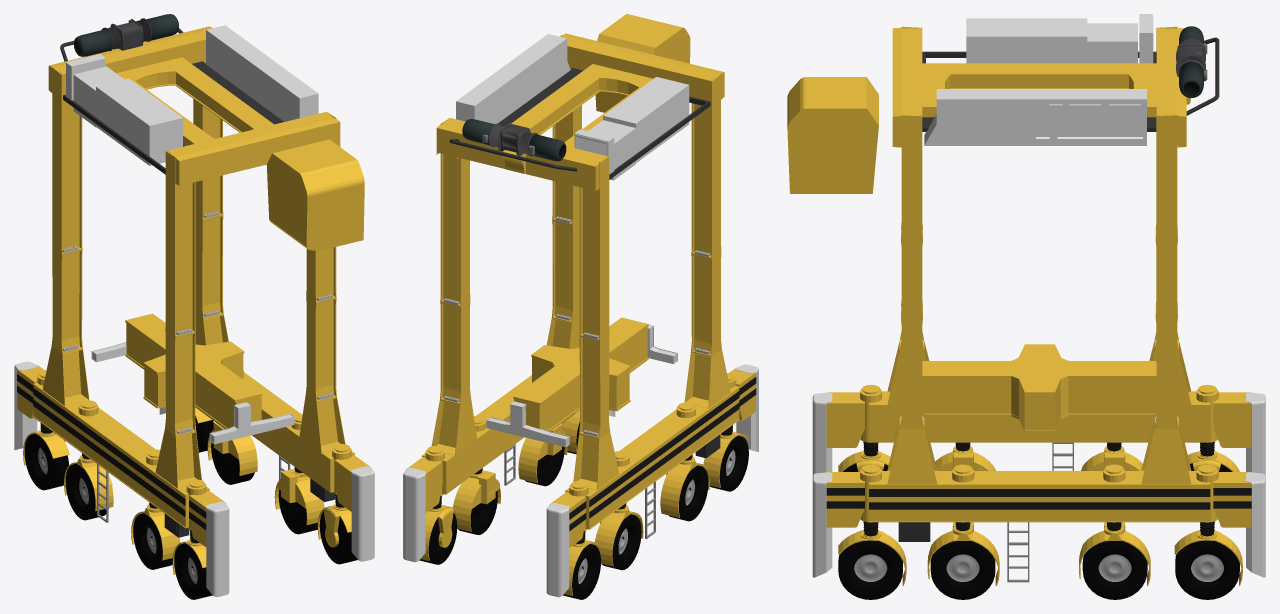
The model's file is straddle carrier_06.fbx.
3 views of the same model, side by side, from view 1: azimuth 30°, elevation 25°; view 2: azimuth 150°, elevation 25°; view 3: azimuth 270°, elevation 25° (orthographic). The views are drawn at different scales.
Parts seen in each view (by area): view 1: Cube.012, Cube.018, Cube.076, Cube.069, Cube.053, Cube.082, Cube.089, Cube.067, Cube, Cube.004, Cube.090, Cube.083 (+35 smaller); view 2: Cube.012, Cube.076, Cube.069, Cube.053, Cube.089, Cube.082, Cube.072, Cube.067, Cube.018, Cube, Cube.073, Cube.083 (+37 smaller); view 3: Cube, Cube.069, Cube.012, Cube.053, Cube.018, Cube.076, Cube.067, Cube.072, Cube.043, Cylinder.019, Cylinder.028, Cylinder (+27 smaller).
Part boxes in pixels (bbox=[...]): Cube.012: bbox=[48, 26, 340, 185]; Cube.018: bbox=[266, 139, 364, 250]; Cube.076: bbox=[33, 383, 209, 528]; Cube.069: bbox=[125, 313, 262, 429]; Cube.053: bbox=[206, 25, 318, 121]; Cube.082: bbox=[165, 151, 195, 337]; Cube.089: bbox=[52, 67, 82, 254]; Cube.067: bbox=[96, 78, 182, 165]; Cube: bbox=[243, 372, 355, 492]; Cube.004: bbox=[305, 296, 336, 402]; Cube.090: bbox=[51, 248, 82, 353]; Cube.083: bbox=[165, 330, 196, 436]; Cube.012: bbox=[436, 33, 724, 190]; Cube.076: bbox=[565, 386, 739, 529]; Cube.069: bbox=[513, 317, 648, 431]; Cube.053: bbox=[456, 34, 570, 123]; Cube.089: bbox=[579, 156, 609, 340]; Cube.082: bbox=[691, 73, 721, 258]; Cube.072: bbox=[440, 118, 470, 306]; Cube.067: bbox=[603, 77, 689, 162]; Cube.018: bbox=[595, 14, 690, 112]; Cube: bbox=[421, 375, 531, 494]; Cube.073: bbox=[440, 300, 470, 404]; Cube.083: bbox=[691, 252, 721, 356]; Cube: bbox=[869, 471, 1210, 522]; Cube.069: bbox=[922, 344, 1156, 432]; Cube.012: bbox=[892, 27, 1186, 147]; Cube.053: bbox=[924, 89, 1146, 145]; Cube.018: bbox=[787, 77, 878, 193]; Cube.076: bbox=[869, 391, 1210, 442]; Cube.067: bbox=[966, 18, 1087, 63]; Cube.072: bbox=[1155, 114, 1177, 317]; Cube.043: bbox=[901, 114, 922, 317]; Cylinder.019: bbox=[930, 541, 995, 599]; Cylinder.028: bbox=[1082, 541, 1147, 599]; Cylinder: bbox=[838, 540, 902, 599].
Bounding box in the file's own units: 505 × 1276 × 1092.
